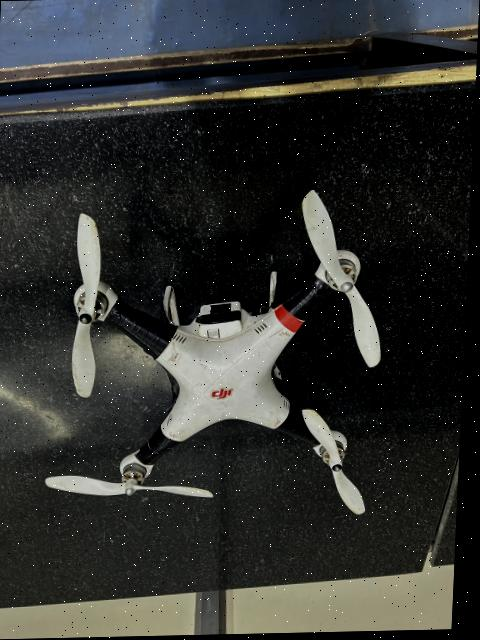drone: (26, 186, 419, 534)
